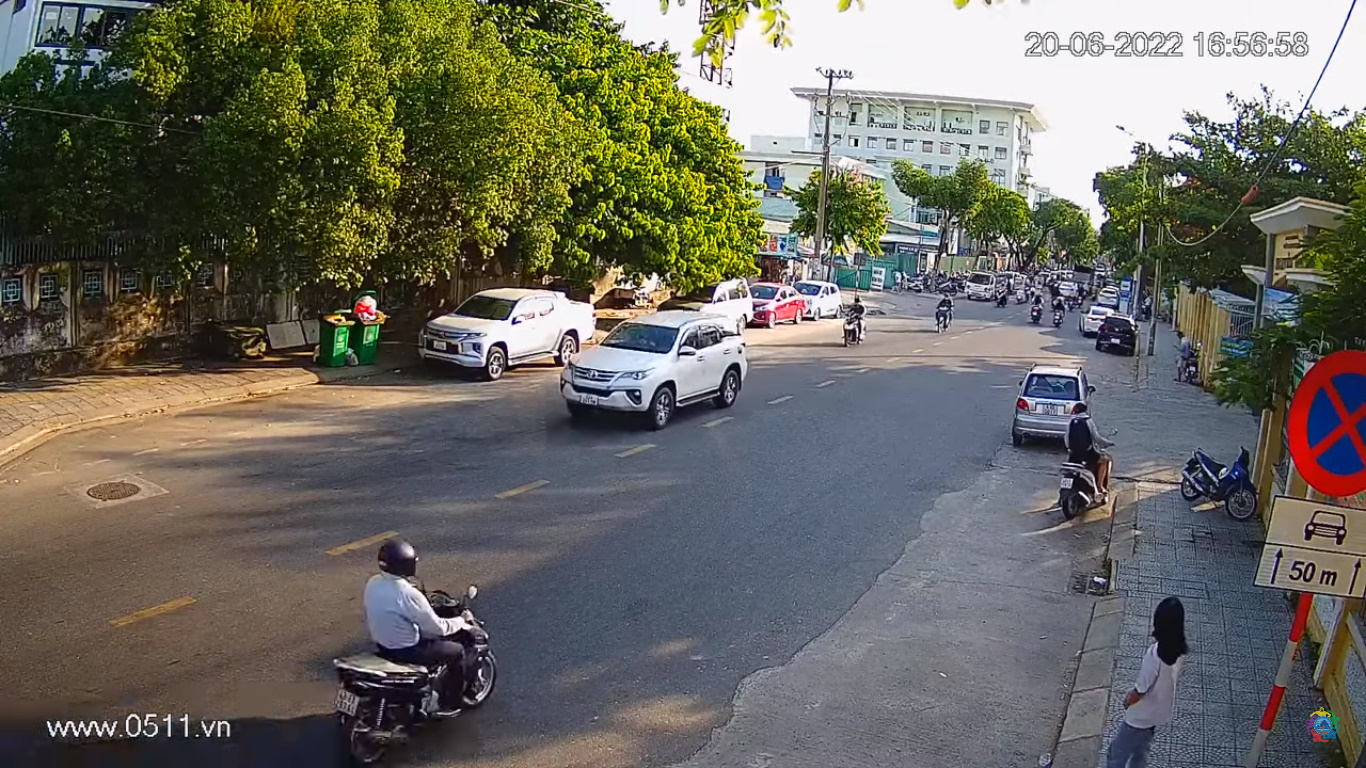car: (559, 317, 755, 433)
